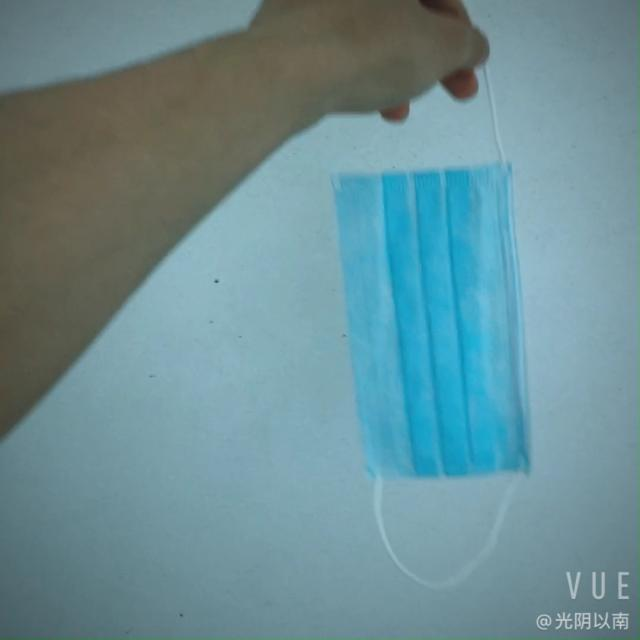face mask: (321, 154, 544, 477)
